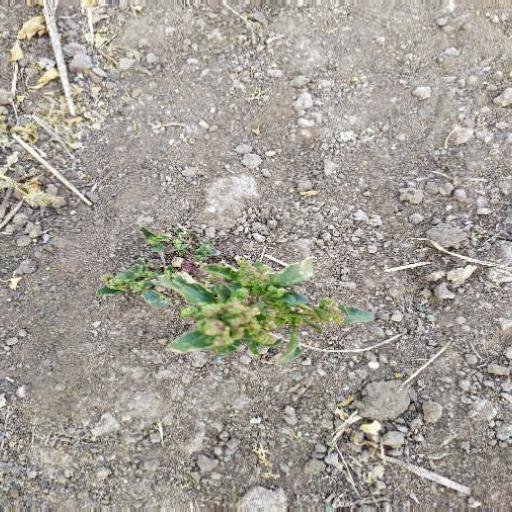weed: (107, 230, 364, 385)
